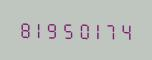eight: (17, 18, 30, 39)
five: (59, 19, 72, 39)
four: (115, 20, 128, 40)
nine: (45, 19, 58, 39)
one: (31, 19, 44, 39), (87, 20, 100, 40)
seven: (101, 20, 114, 40)
zero: (73, 19, 86, 40)
